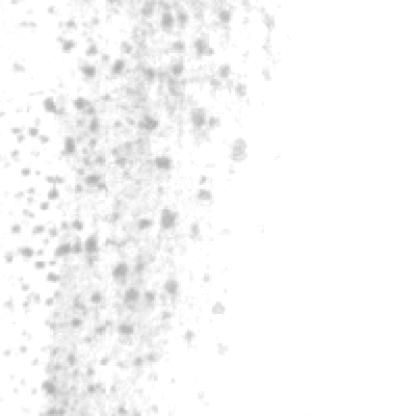pitted_surface: (10, 0, 266, 401), (330, 2, 405, 339)
